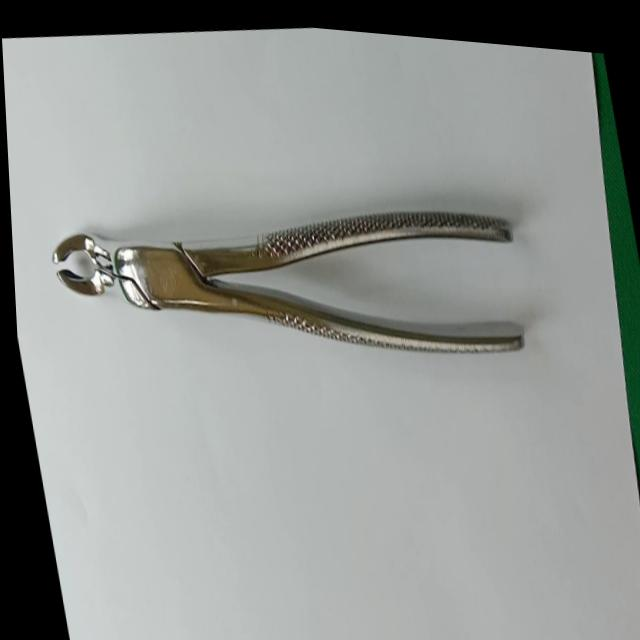BayonetForcep: (38, 153, 540, 416)
